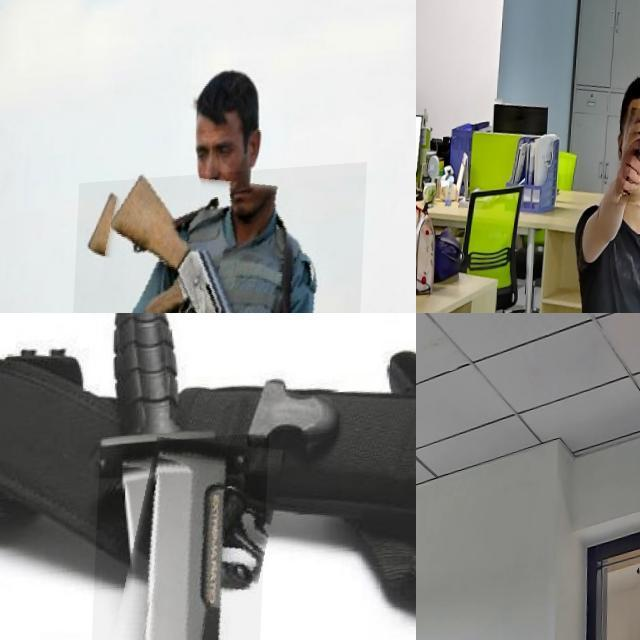-: (86, 439, 271, 640)
gun-knife-thesis - v11 Yolov5 augmented: (68, 169, 369, 313), (618, 111, 640, 210)
